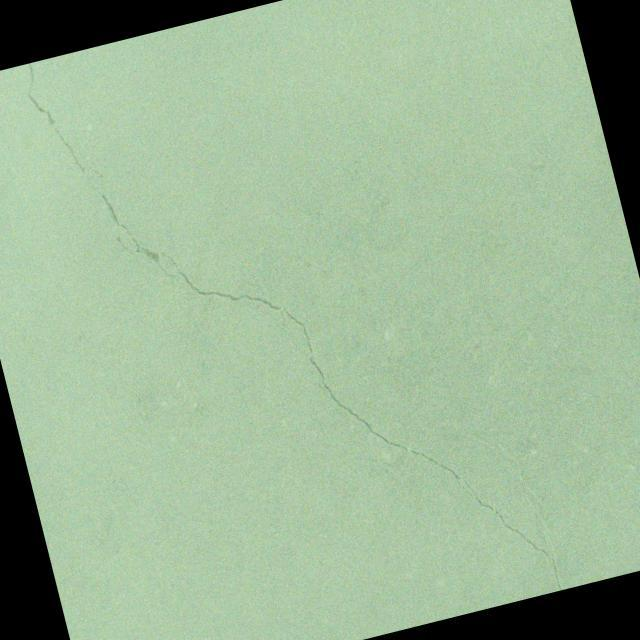crack: (160, 177, 563, 640), (20, 40, 178, 308)
